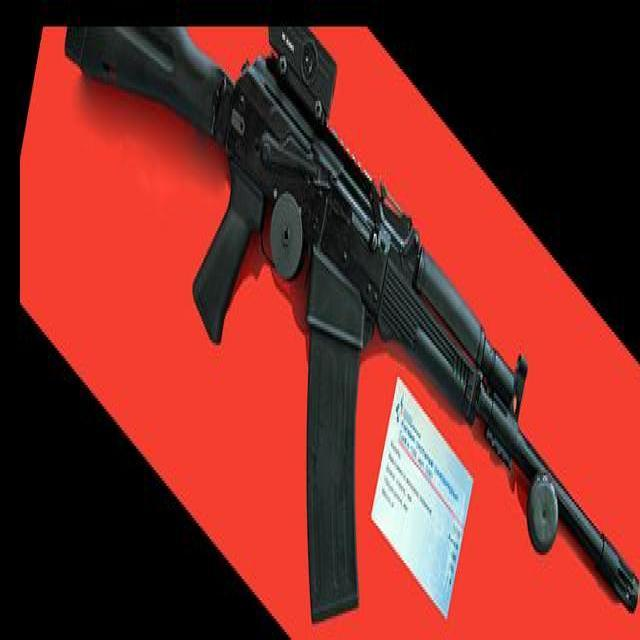weapon: (62, 25, 640, 628)
